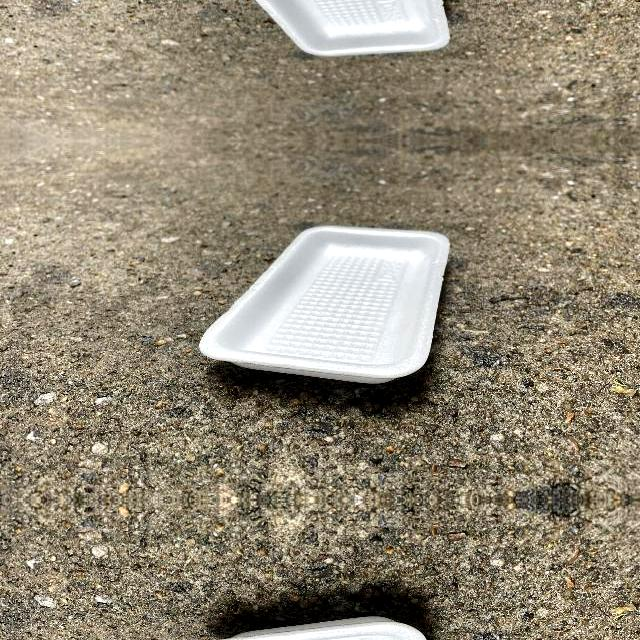Styrofoam: (198, 223, 450, 385), (199, 225, 450, 383), (198, 0, 450, 57), (257, 0, 450, 55)
